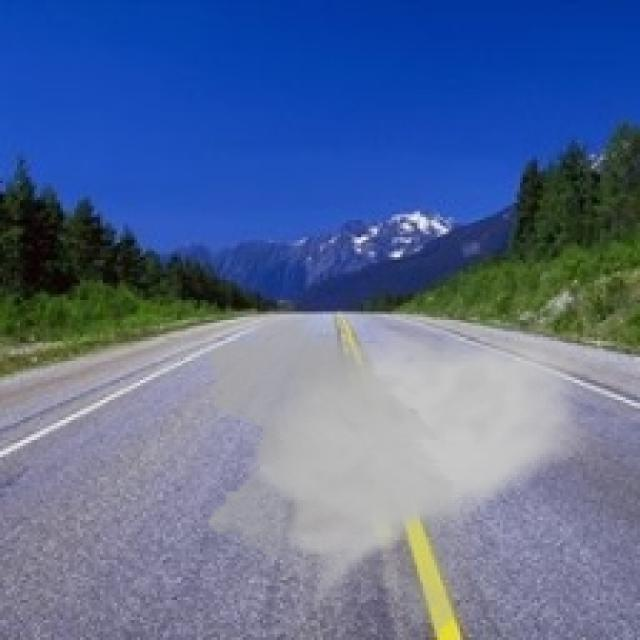smoke: (197, 297, 606, 637)
